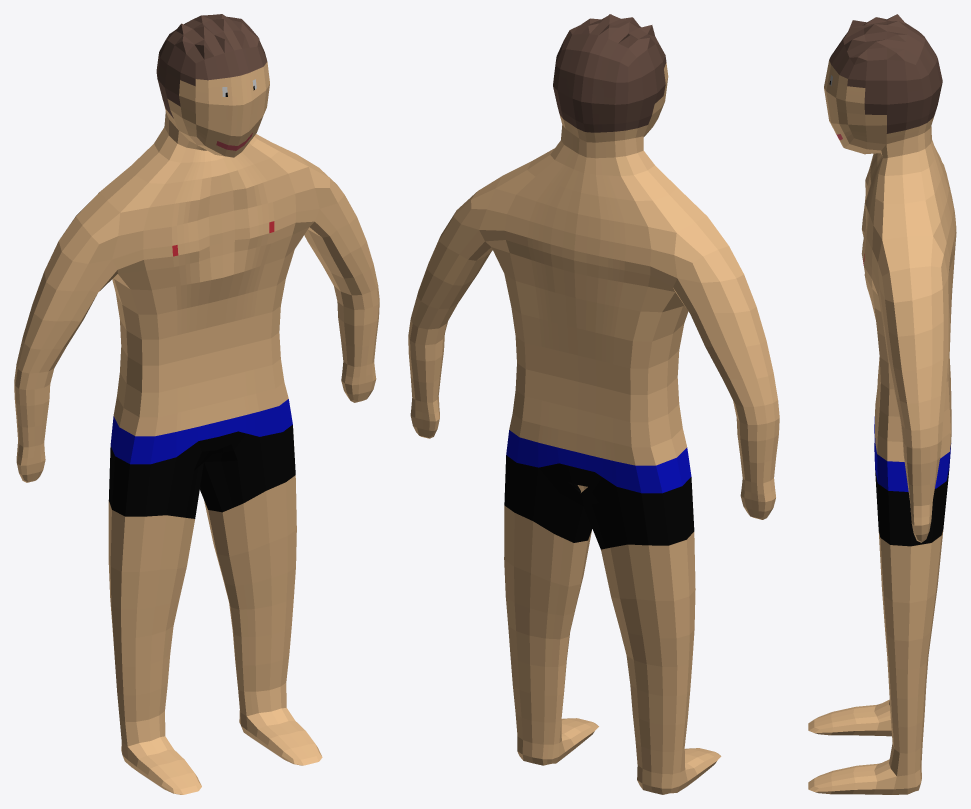
File: person.fbx
3 renders of one model, left to right at view 1: azimuth 30°, elevation 25°; view 2: azimuth 150°, elevation 25°; view 3: azimuth 270°, elevation 25°, orthographic.
Visible parts, largest first — view 1: Cube; view 2: Cube; view 3: Cube.
Part boxes in pixels (x1=…): Cube: x1=14, y1=14, x2=379, y2=794; Cube: x1=408, y1=14, x2=779, y2=794; Cube: x1=808, y1=14, x2=956, y2=794.
Size of the model in its own units: 680 by 1327 by 241.
